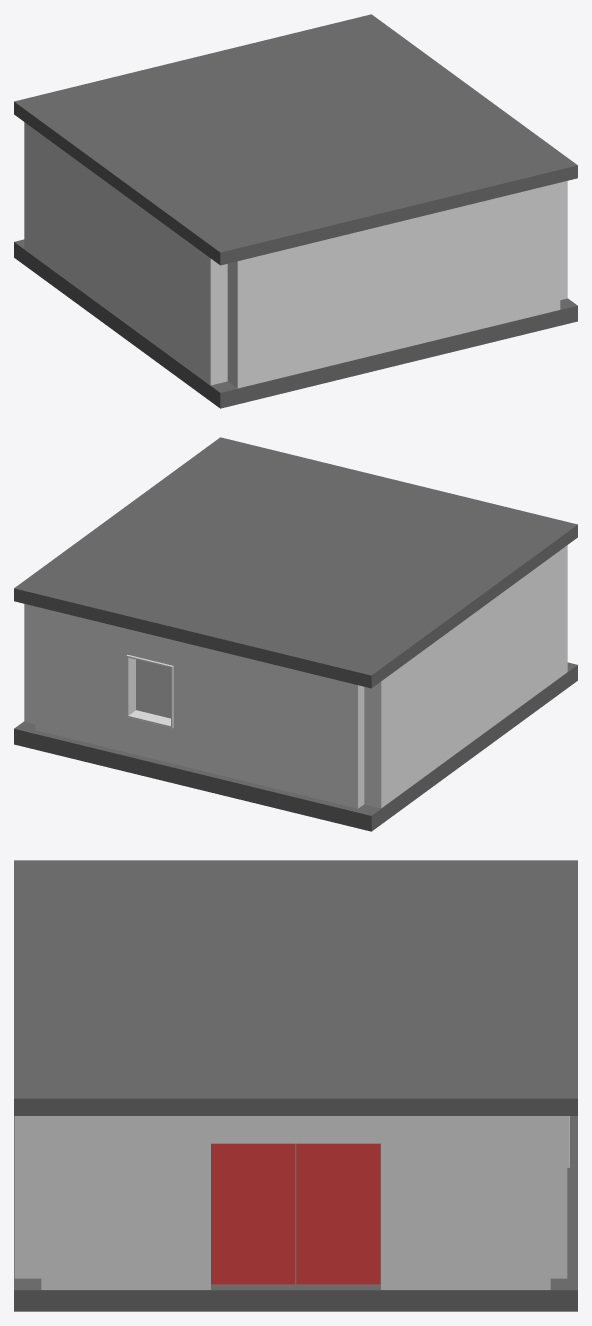
The model's file is roomtest_prod_square.fbx.
The picture shows the model from 3 angles, top to bottom: view 1: azimuth 30°, elevation 25°; view 2: azimuth 150°, elevation 25°; view 3: azimuth 270°, elevation 25°; orthographic projection. The views are drawn at different scales.
Parts seen in each view (by area): view 1: Plafond_1_2, Mur_4, Mur, Plafond_1, Mur_3; view 2: Plafond_1_2, Mur_2, Mur, Plafond_1, Mur_3, Fenêtre; view 3: Plafond_1_2, Mur_3, Plafond_1, Porte, Porte_droite, Mur_4, Mur_2.
Boxes of the visible parts, x1,y1,x2,y2 form: Plafond_1_2: [14, 14, 577, 265]; Mur_4: [227, 182, 560, 388]; Mur: [24, 122, 227, 385]; Plafond_1: [14, 239, 577, 408]; Mur_3: [560, 181, 567, 299]; Plafond_1_2: [14, 437, 577, 688]; Mur_2: [35, 606, 364, 808]; Mur: [364, 545, 567, 808]; Plafond_1: [14, 659, 577, 831]; Mur_3: [24, 604, 35, 723]; Fenêtre: [126, 654, 173, 728]; Plafond_1_2: [14, 860, 577, 1115]; Mur_3: [41, 1116, 550, 1289]; Plafond_1: [14, 1116, 577, 1311]; Porte: [296, 1143, 380, 1284]; Porte_droite: [211, 1143, 294, 1284]; Mur_4: [14, 1116, 41, 1278]; Mur_2: [550, 1116, 567, 1278].
Size of the model in its own units: 842 by 351 by 842.
